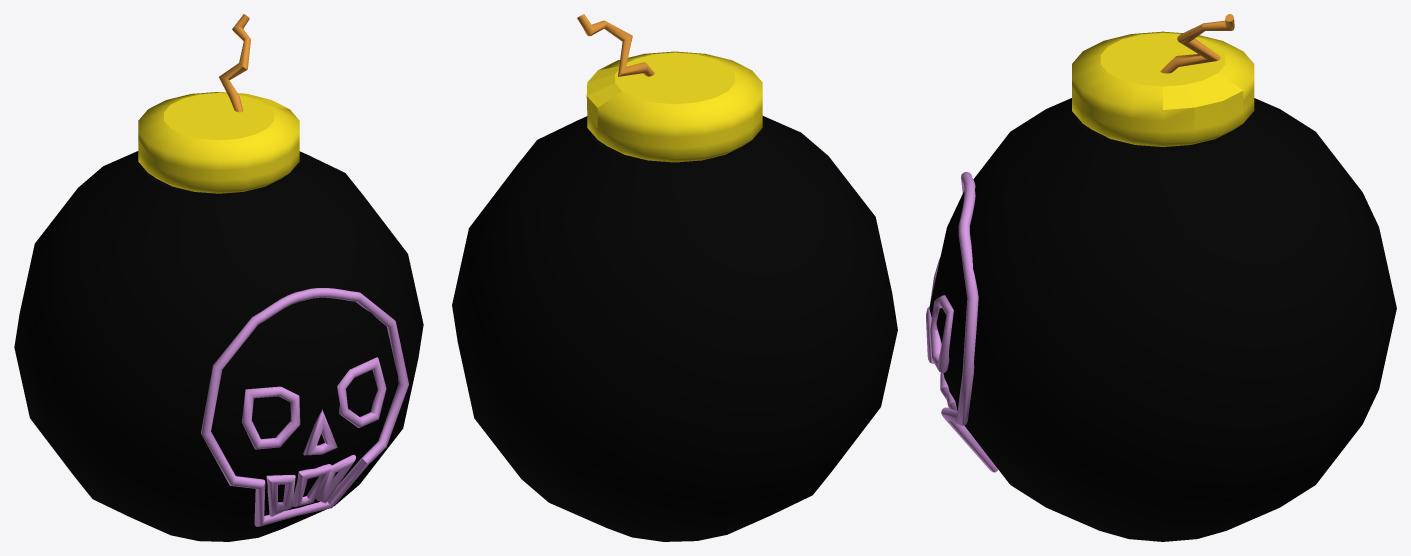
Rendered from 潘妮炮台的炸弹.FBX.
3 views of the same model, side by side, from view 1: azimuth 30°, elevation 25°; view 2: azimuth 150°, elevation 25°; view 3: azimuth 270°, elevation 25° (orthographic). The views are drawn at different scales.
Parts seen in each view (by area): view 1: Sphere001, Cylinder001, Line004, Line005; view 2: Sphere001, Cylinder001, Line005; view 3: Sphere001, Cylinder001, Line004, Line005.
Part boxes in pixels (x1,y1,x2,y2): Sphere001: (14,151,423,541); Cylinder001: (138,92,299,193); Line004: (201,288,408,526); Line005: (219,14,250,112); Sphere001: (452,116,897,541); Cylinder001: (586,51,762,162); Line005: (577,14,654,76); Sphere001: (929,98,1396,541); Cylinder001: (1072,31,1254,146); Line004: (926,172,998,472); Line005: (1160,14,1234,73).
Bounding box in the file's own units: 41.32 × 52.29 × 41.59.
